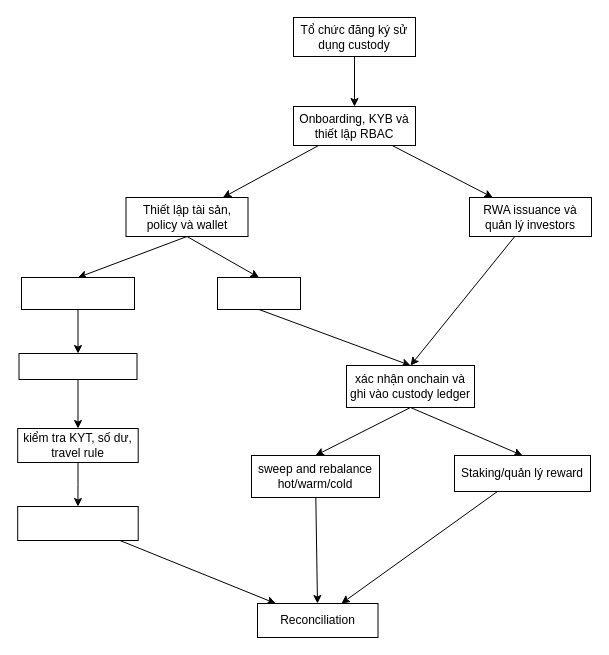
Some shapes in this 609 by 655 pixel diagram are drawn without their labels. The centre of each missing label's shape, as x and y in pixels:
"deposit" belongs at point (258, 293).
"Ký MPC và chuyển onchain" belongs at point (77, 523).
"tạo withdraw request" belongs at point (77, 366).
"whitelist ví nhận" belongs at point (77, 293).
